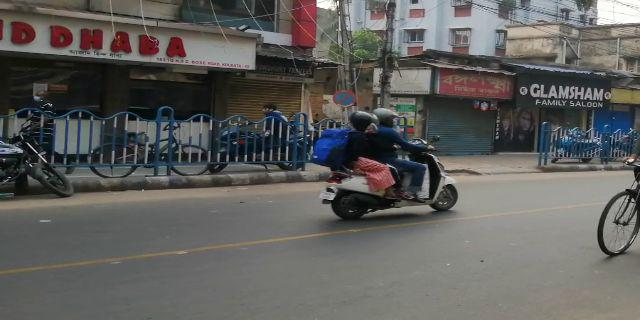Motorbike: (311, 109, 464, 219)
